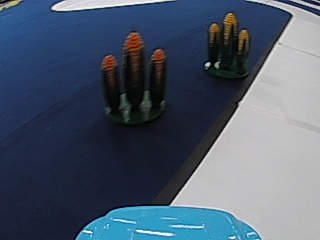corn: (100, 34, 169, 127), (203, 9, 251, 79)
